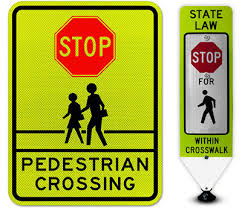SS: (54, 17, 117, 77), (192, 42, 222, 73)
